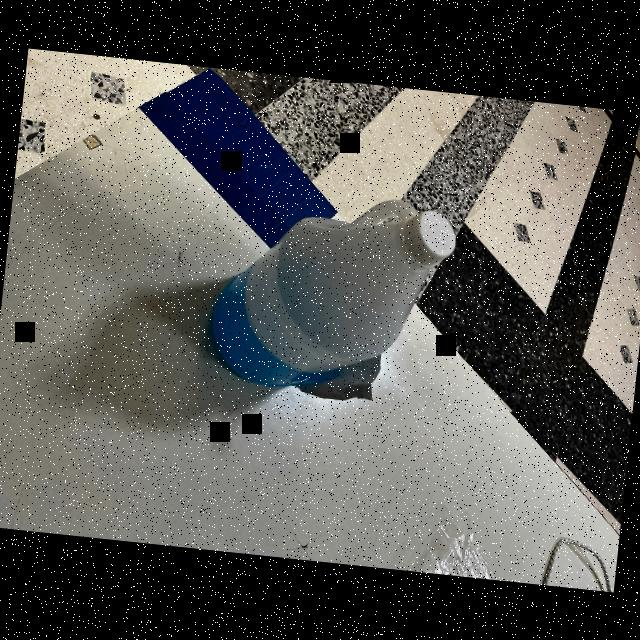chemical_plastic_gallon: (184, 177, 498, 426)
